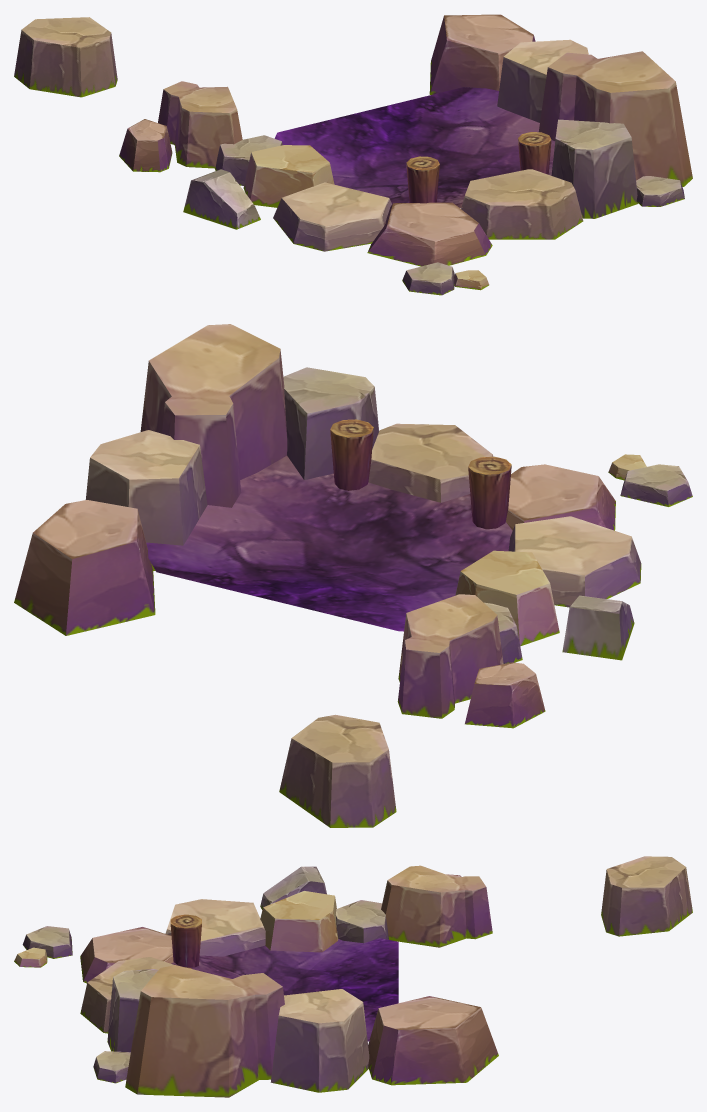
The model's file is scenes_construction_quarry02a.FBX.
The picture shows the model from 3 angles, top to bottom: view 1: azimuth 30°, elevation 25°; view 2: azimuth 150°, elevation 25°; view 3: azimuth 270°, elevation 25°; orthographic projection. The views are drawn at different scales.
Parts seen in each view (by area): view 1: scenes_construction_quarry02a; view 2: scenes_construction_quarry02a; view 3: scenes_construction_quarry02a.
Part boxes in pixels (x1,y1,x2,y2): scenes_construction_quarry02a: [14, 14, 692, 295]; scenes_construction_quarry02a: [14, 324, 692, 827]; scenes_construction_quarry02a: [14, 856, 692, 1097].
Bounding box in the file's own units: 1552 × 337 × 2202.
